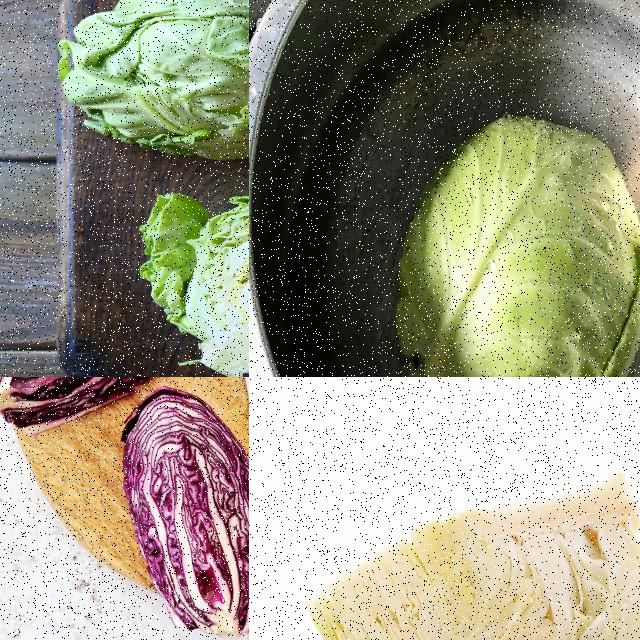cabbage: (396, 114, 639, 376), (304, 469, 639, 639), (118, 386, 248, 639), (54, 0, 248, 163), (135, 180, 248, 376), (0, 377, 210, 441)
